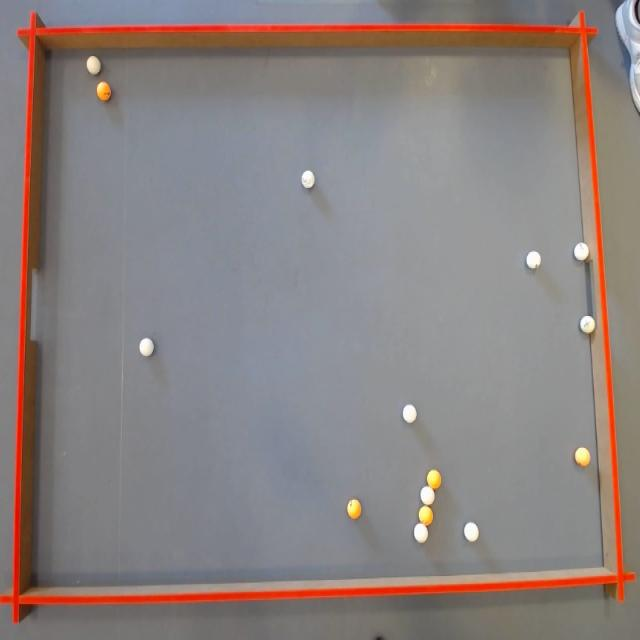orange_ball: (575, 447, 590, 466), (418, 506, 433, 525), (347, 499, 361, 519), (427, 469, 441, 489), (96, 81, 110, 101)
white_ball: (139, 338, 154, 357), (574, 242, 589, 261), (464, 522, 478, 542), (580, 316, 595, 334), (526, 251, 541, 269), (420, 486, 434, 505), (414, 524, 428, 543), (301, 170, 315, 188), (86, 56, 100, 74), (403, 405, 416, 423)
